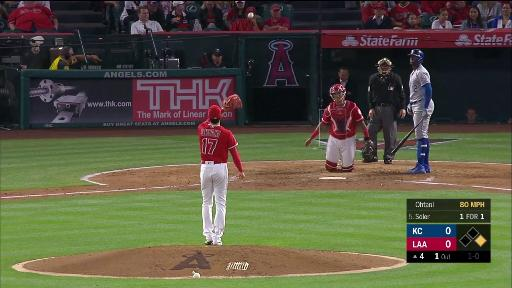pitcher: (198, 93, 246, 246)
